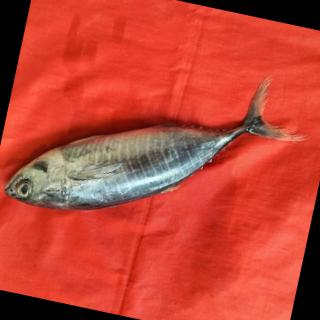Ikan: (1, 31, 315, 272)
